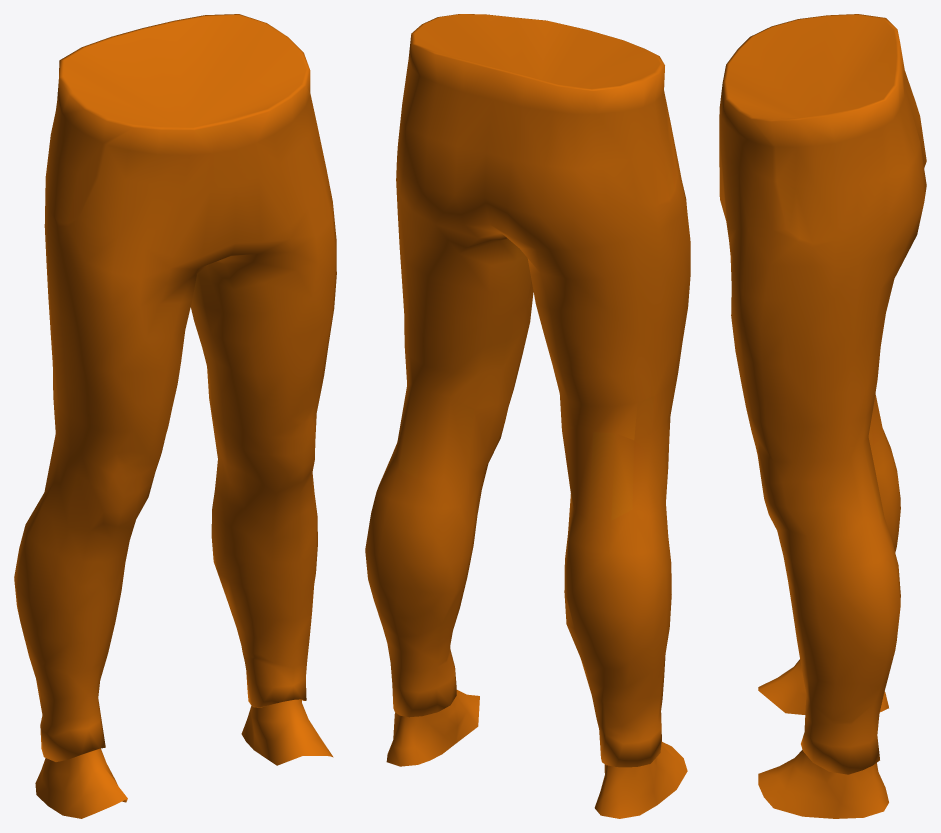
The picture shows the model from 3 angles, left to right: view 1: azimuth 30°, elevation 25°; view 2: azimuth 150°, elevation 25°; view 3: azimuth 270°, elevation 25°; orthographic projection. The views are drawn at different scales.
Parts seen in each view (by area): view 1: hash_AD5B91CF.model; view 2: hash_AD5B91CF.model; view 3: hash_AD5B91CF.model.
Part boxes in pixels (x1,y1,x2,y2): hash_AD5B91CF.model: (14,14,336,818); hash_AD5B91CF.model: (365,14,690,818); hash_AD5B91CF.model: (719,14,926,818).
Size of the model in its own units: 0.4328 by 1.05 by 0.2816.
